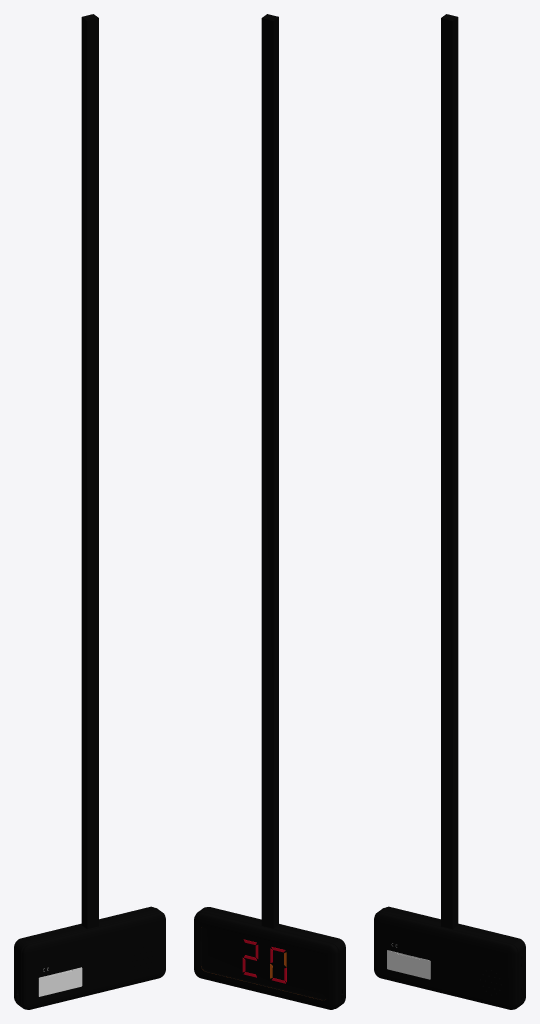
File: number2.fbx
The picture shows the model from 3 angles, left to right: view 1: azimuth 30°, elevation 25°; view 2: azimuth 150°, elevation 25°; view 3: azimuth 330°, elevation 25°; orthographic projection.
Parts seen in each view (by area): view 1: Cubo_3_1, Cubo, Cubo_12_3; view 2: Cubo_3_1, Cubo_2, Cubo; view 3: Cubo_3_1, Cubo, Cubo_12_3.
Boxes of the visible parts, box(x1,y1,x2,y2) form: Cubo_3_1: box(15, 14, 164, 1009); Cubo: box(14, 906, 165, 1009); Cubo_12_3: box(38, 967, 82, 996); Cubo_3_1: box(196, 14, 345, 1008); Cubo_2: box(200, 924, 327, 1000); Cubo: box(194, 907, 345, 1009); Cubo_3_1: box(375, 14, 524, 1009); Cubo: box(374, 906, 525, 1009); Cubo_12_3: box(387, 950, 430, 979).
Size of the model in its own units: 52.19 by 332 by 7.18.
